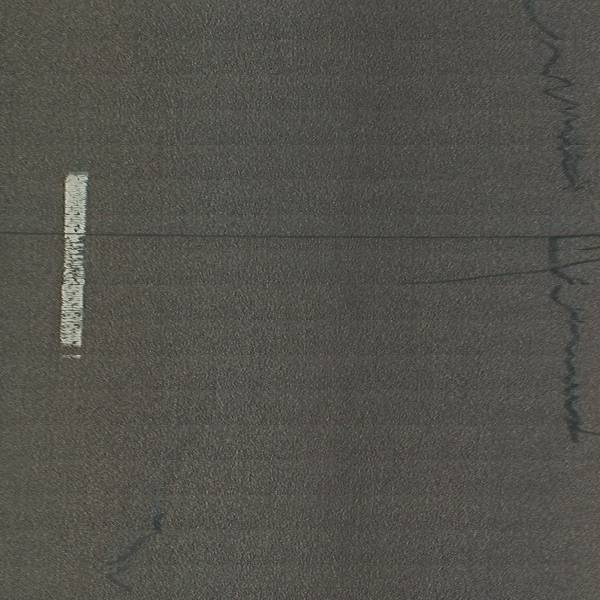road_damage: (1, 226, 595, 246), (526, 13, 585, 192), (549, 255, 596, 456), (101, 506, 171, 597)
